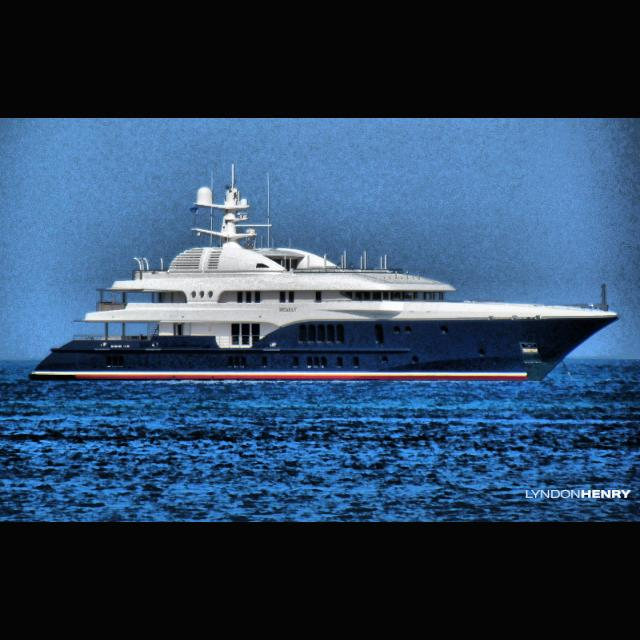yacht: (27, 178, 619, 382)
